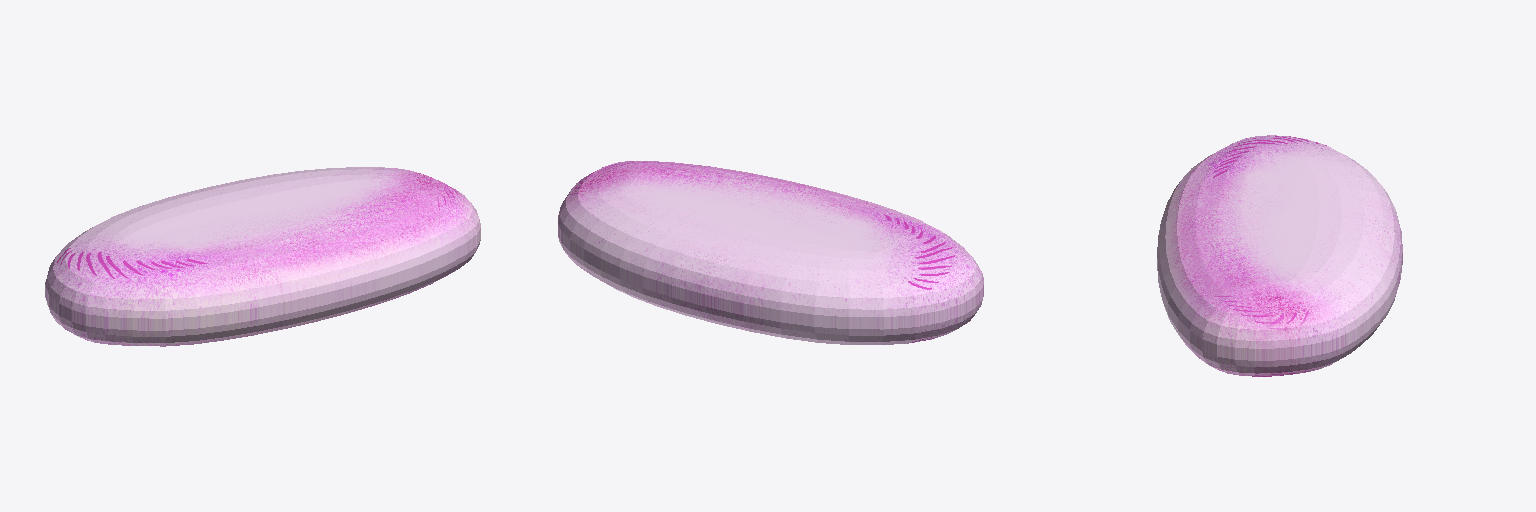
3 views of the same model, side by side, from view 1: azimuth 30°, elevation 25°; view 2: azimuth 150°, elevation 25°; view 3: azimuth 270°, elevation 25° (orthographic).
Parts seen in each view (by area): view 1: Cloud_Maru_003; view 2: Cloud_Maru_003; view 3: Cloud_Maru_003.
Boxes of the visible parts, box(x1,y1,x2,y2) form: Cloud_Maru_003: box(45, 167, 480, 346); Cloud_Maru_003: box(558, 161, 983, 344); Cloud_Maru_003: box(1157, 135, 1402, 376).
Size of the model in its own units: 0.7762 by 0.1489 by 0.4075.
1 materials, 1 textured.